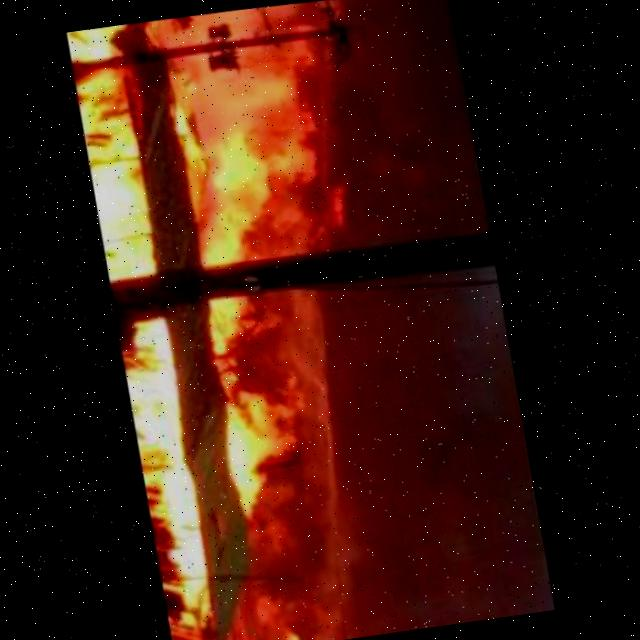fire: (155, 12, 341, 271), (119, 315, 221, 637), (199, 283, 324, 522), (70, 23, 174, 285)
